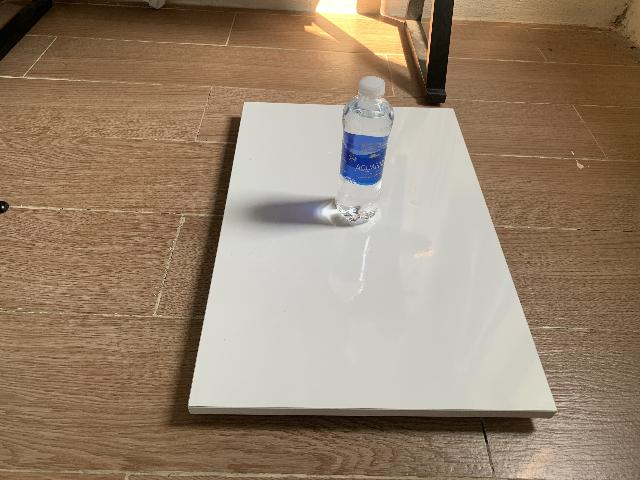aquafina: (335, 76, 394, 225)
